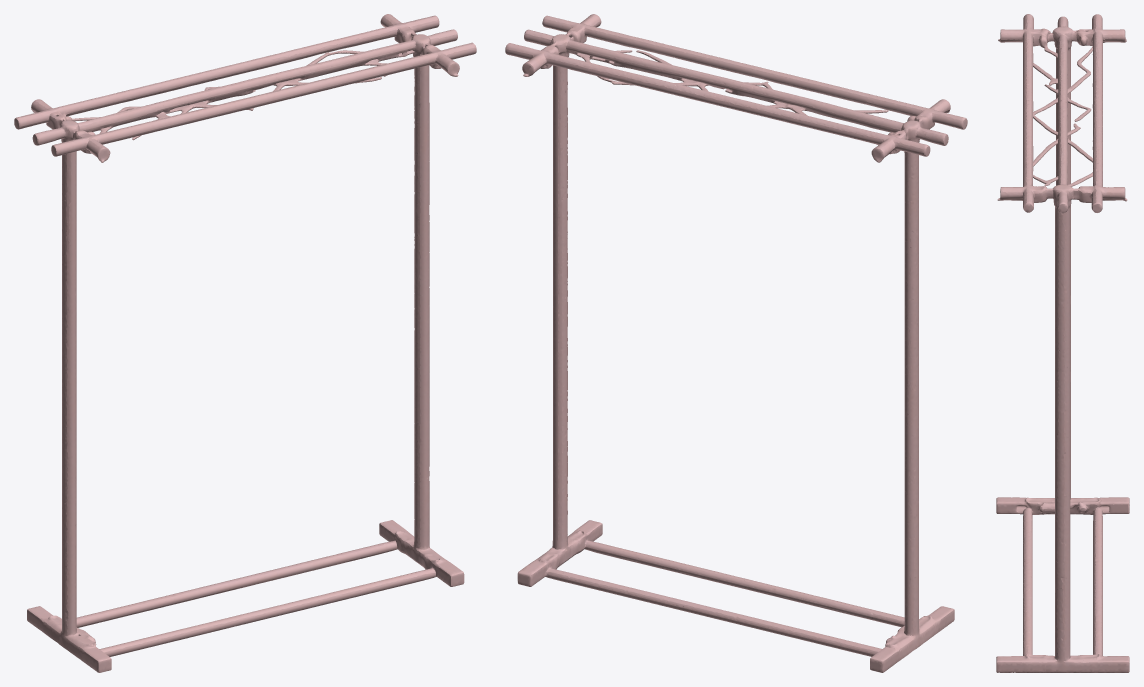
Rendered from item_85cb2b8d.glb.
The picture shows the model from 3 angles, left to right: view 1: azimuth 30°, elevation 25°; view 2: azimuth 150°, elevation 25°; view 3: azimuth 270°, elevation 25°; orthographic projection. The views are drawn at different scales.
Parts seen in each view (by area): view 1: world; view 2: world; view 3: world.
Part boxes in pixels (x1,y1,x2,y2): world: (14,14,476,672); world: (505,14,967,672); world: (996,14,1129,672).
Bounding box in the file's own units: 1.43 × 1.7 × 0.4246.
Materials: 1 (1 with a texture image).
